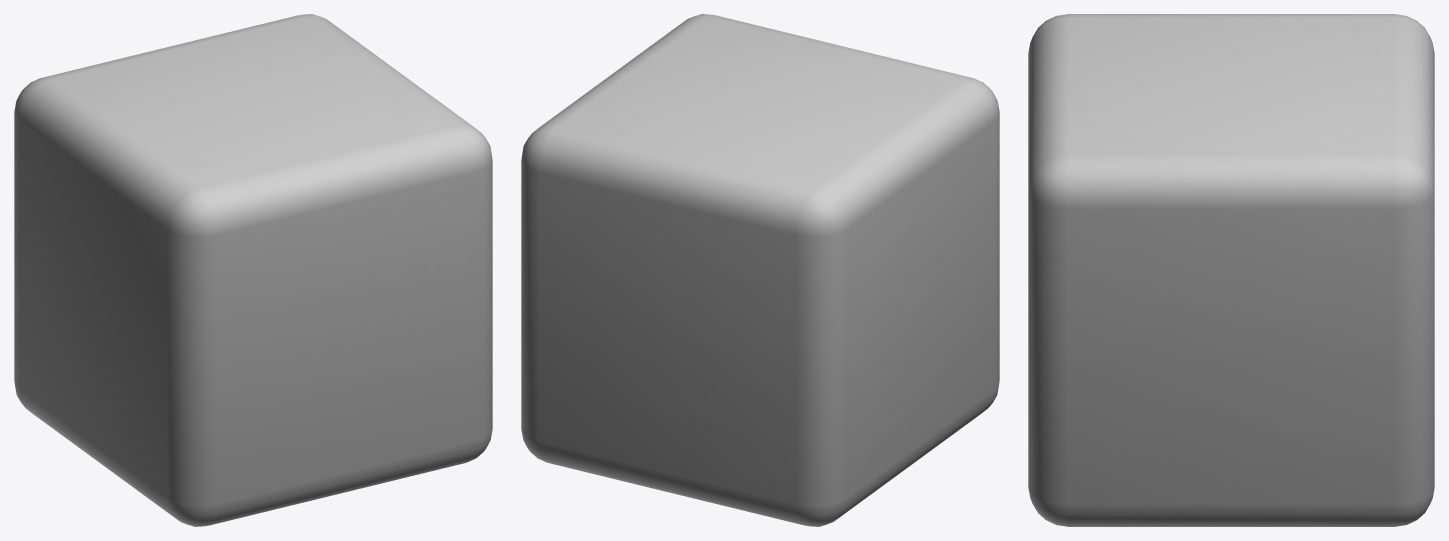
3 renders of one model, left to right at view 1: azimuth 30°, elevation 25°; view 2: azimuth 150°, elevation 25°; view 3: azimuth 270°, elevation 25°, orthographic. The views are drawn at different scales.
Parts seen in each view (by area): view 1: Cube.002; view 2: Cube.002; view 3: Cube.002.
Boxes of the visible parts, box(x1,y1,x2,y2) form: Cube.002: box(14, 14, 492, 526); Cube.002: box(521, 14, 999, 526); Cube.002: box(1028, 14, 1434, 526).
Size of the model in its own units: 2 by 2 by 2.
1 material, 1 textured.
